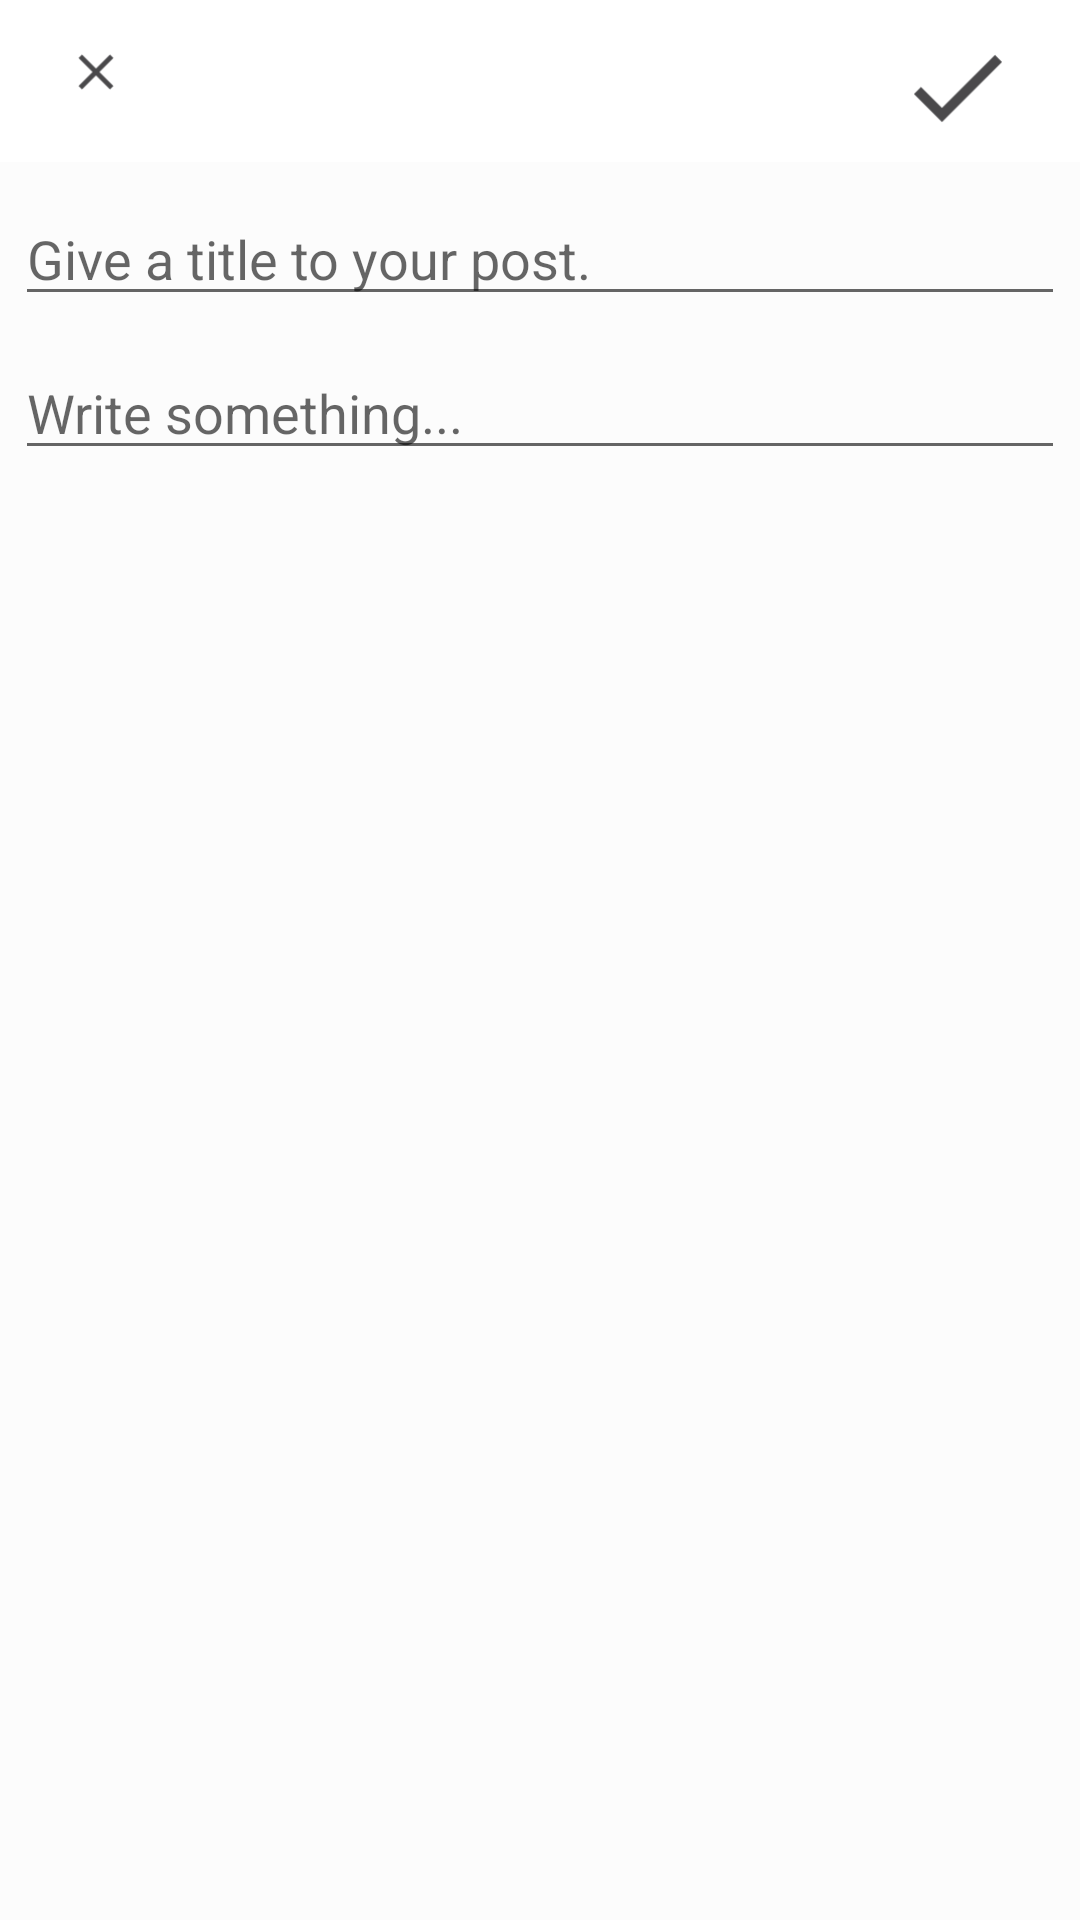

Screen size 1080 x 1920. Icon name, then its box in pixels as [x1, y1, x2, y2]:
close: [78, 54, 114, 90]
done: [914, 55, 1002, 122]
